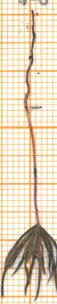flower: (0, 222, 57, 304)
root: (18, 7, 42, 108)
stem: (20, 107, 42, 221)
